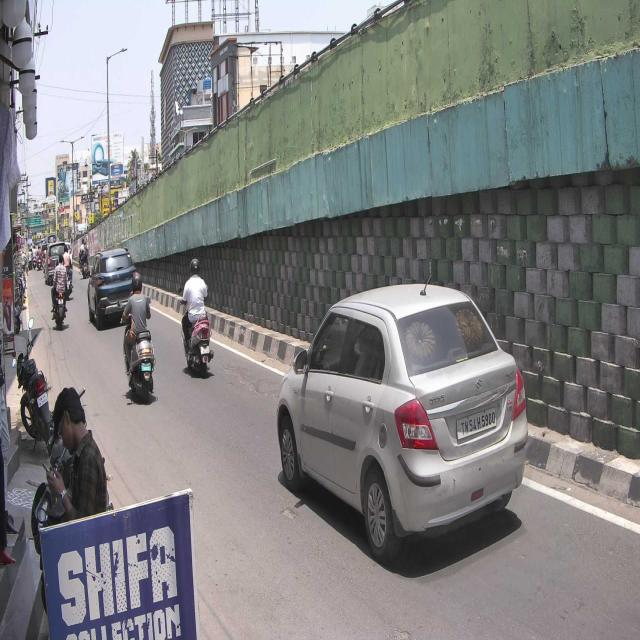single_rider: (117, 269, 157, 404), (176, 258, 216, 377)
